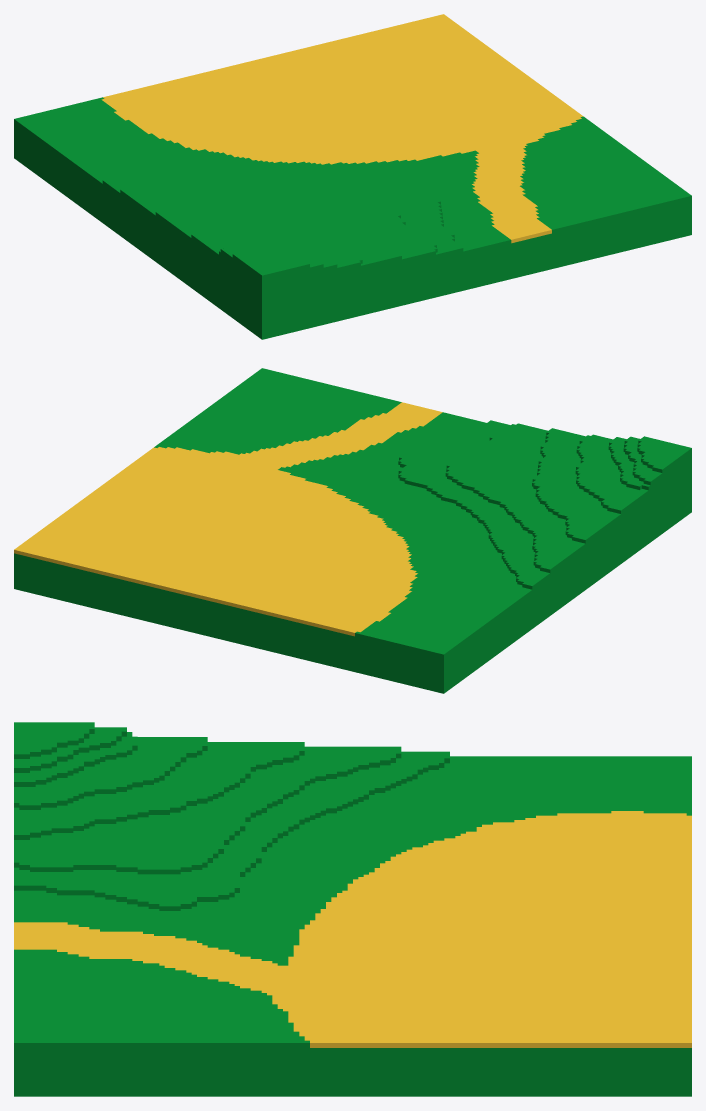
Rendered from lvl_03.obj.
3 views of the same model, one above another, from view 1: azimuth 30°, elevation 25°; view 2: azimuth 150°, elevation 25°; view 3: azimuth 270°, elevation 25° (orthographic). The views are drawn at different scales.
Size of the model in its own units: 12.6 by 1.8 by 12.6.
1 material, 1 textured.
